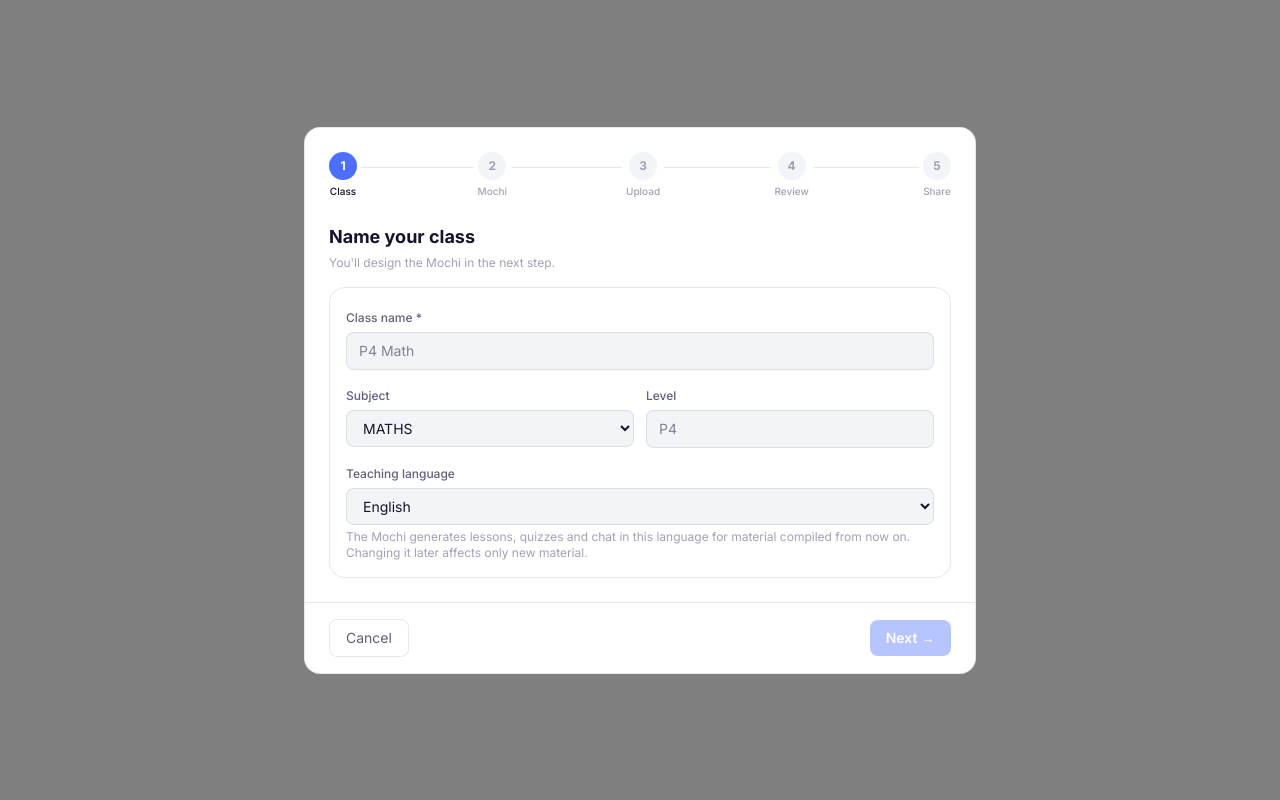
Test case: CreateClassModal — step 1 (identity) › Next button enables once name has text
Step 1. Type "P4 Science" into the field with placeholder "P4 Math" → (640, 350), box [346,332,934,370]
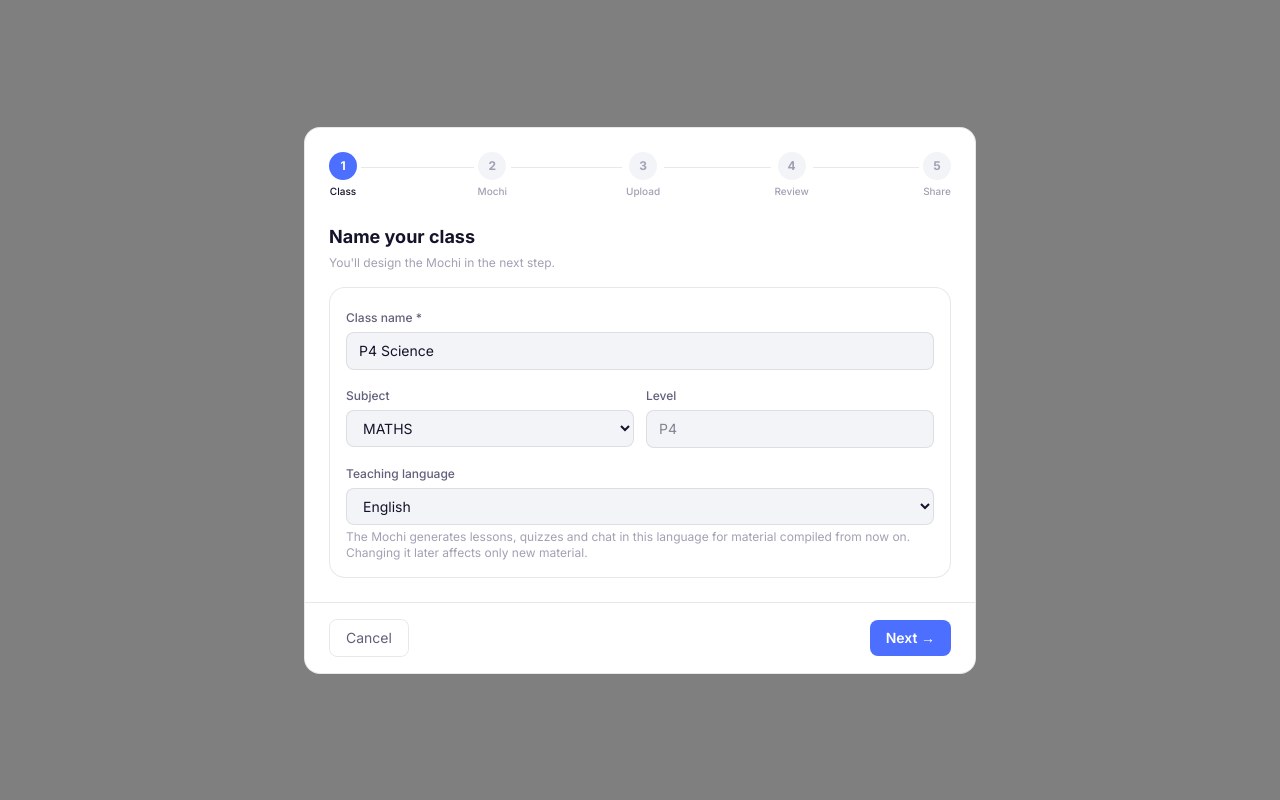
expect the button "Next →" is enabled: met, box [870,620,951,656]
